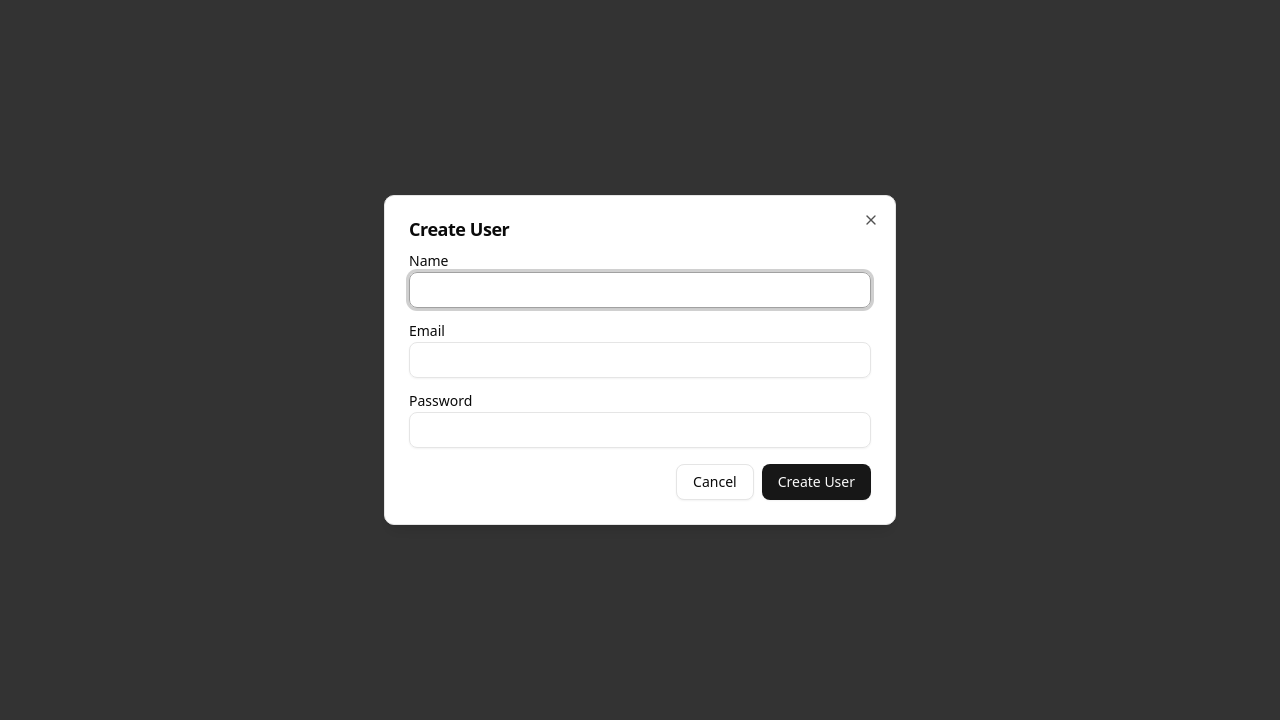
Test: CreateUserModal › shows a validation error when password is too short
The image size is (1280, 720).
Type "short" into the password field labelled "Password".
click(640, 430); type("short")  # box left=409, top=412, right=871, bottom=448
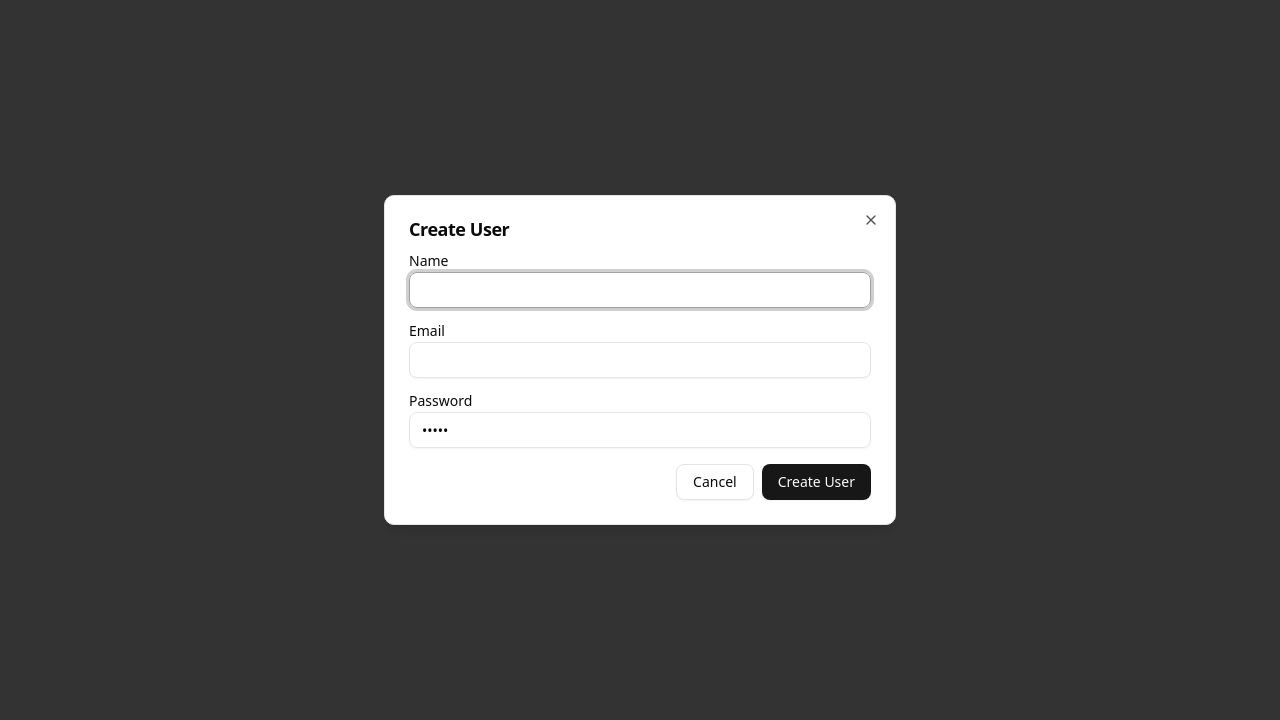
Click the button "Create User".
click(816, 482)  # box left=762, top=464, right=871, bottom=500
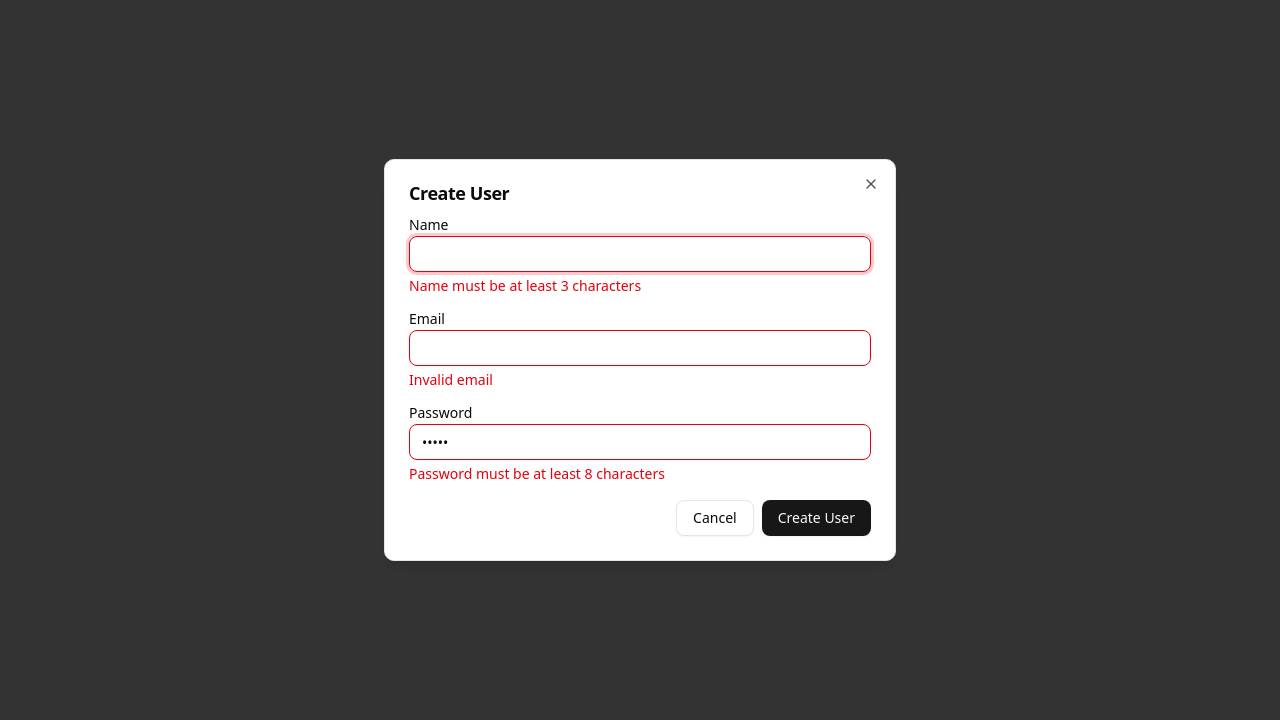
Expected: the text "Password must be at least 8 characters" is shown, left=409, top=464, right=665, bottom=483
